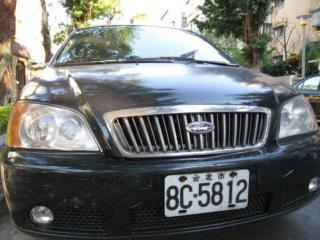plate: (163, 168, 248, 216)
